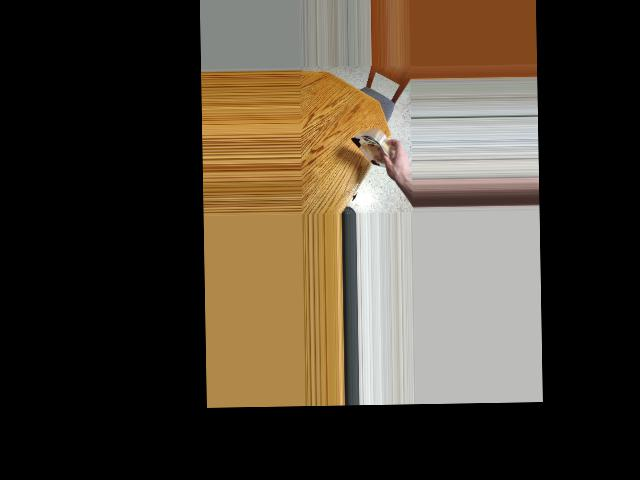cheese: (351, 121, 393, 179)
